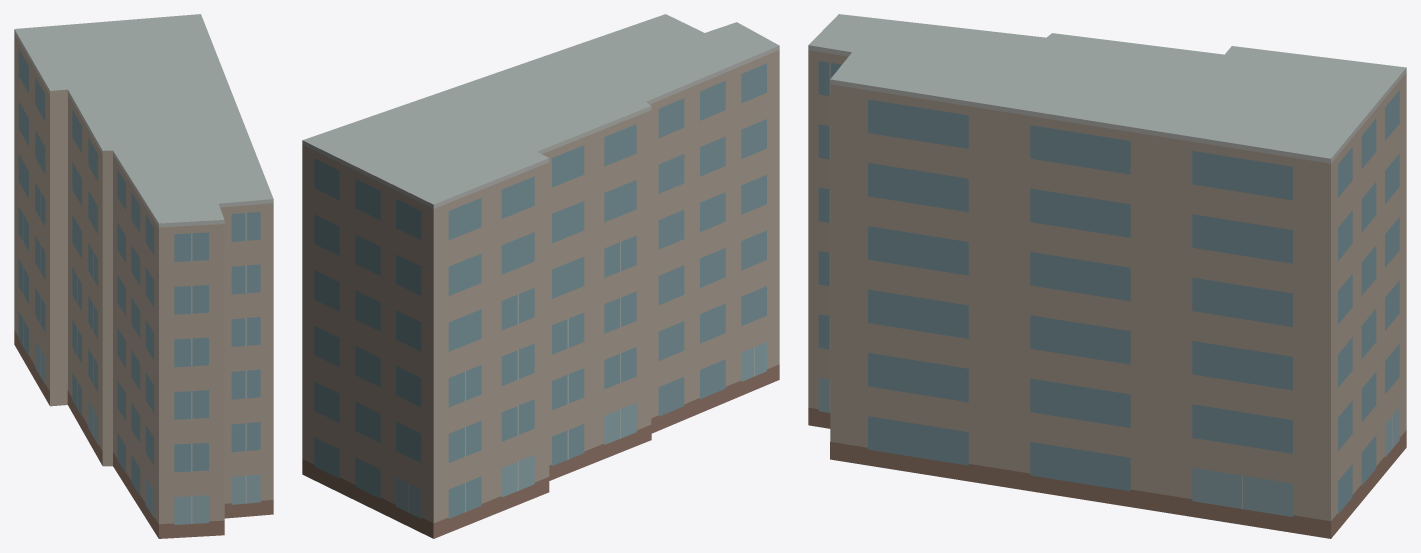
Rendered from survey-upis-32869879.glb.
3 renders of one model, left to right at view 1: azimuth 30°, elevation 25°; view 2: azimuth 150°, elevation 25°; view 3: azimuth 270°, elevation 25°, orthographic. The views are drawn at different scales.
Visible parts, largest first — view 1: survey-upis-32869879.tmp; view 2: survey-upis-32869879.tmp; view 3: survey-upis-32869879.tmp.
Boxes of the visible parts, bbox=[...] form: survey-upis-32869879.tmp: bbox=[14, 14, 273, 538]; survey-upis-32869879.tmp: bbox=[302, 14, 779, 538]; survey-upis-32869879.tmp: bbox=[808, 14, 1406, 538].
Size of the model in its own units: 15.57 by 19.05 by 27.18.
